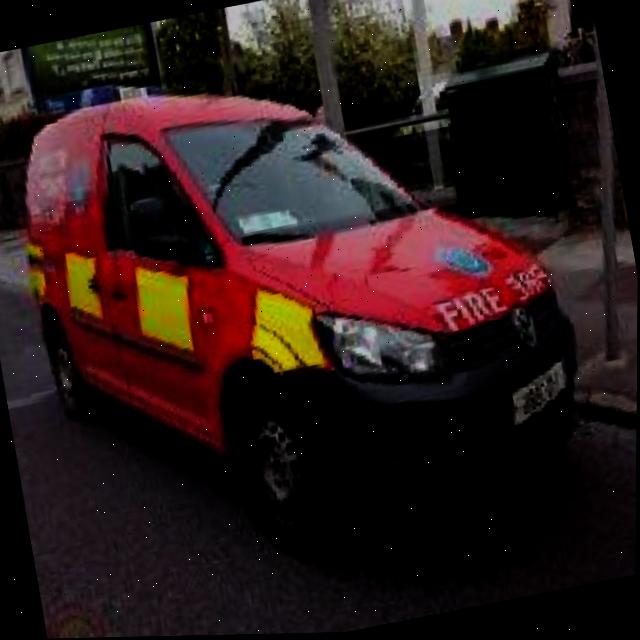emergency: (0, 15, 609, 604)
